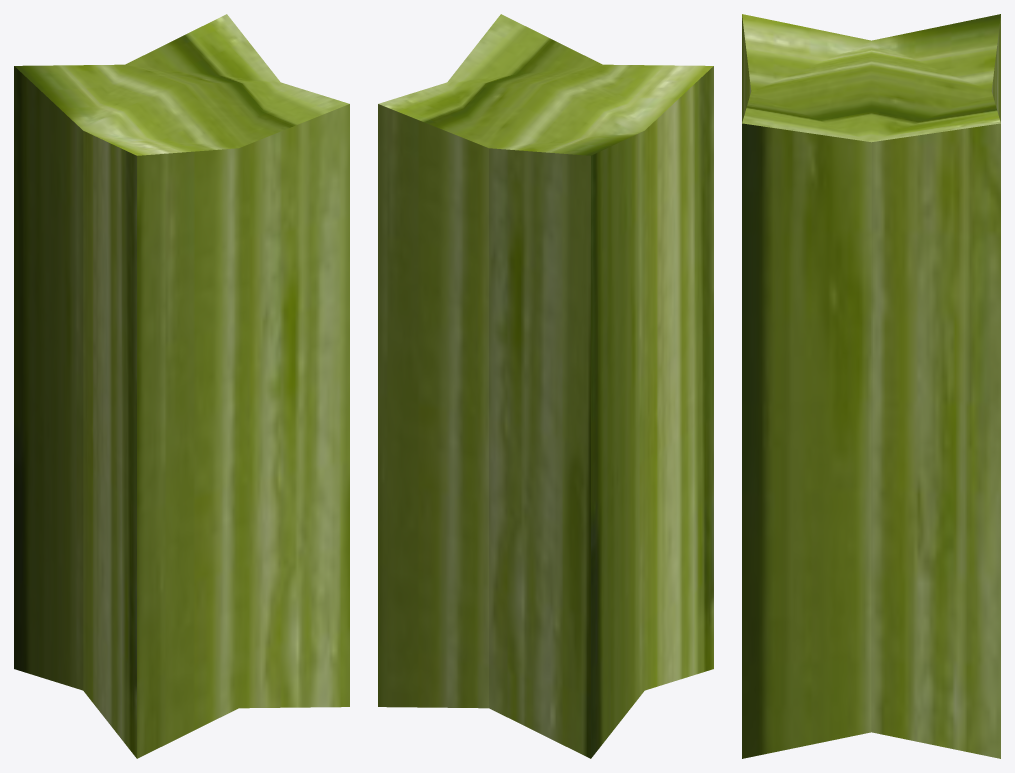
Rendered from gambo.FBX.
The picture shows the model from 3 angles, left to right: view 1: azimuth 30°, elevation 25°; view 2: azimuth 150°, elevation 25°; view 3: azimuth 270°, elevation 25°; orthographic projection. The views are drawn at different scales.
Visible parts, largest first — view 1: gambo; view 2: gambo; view 3: gambo.
Part boxes in pixels (bbox=[...]): gambo: bbox=[14, 14, 349, 758]; gambo: bbox=[378, 14, 713, 758]; gambo: bbox=[742, 14, 1000, 758].
Size of what is drawn, in the model's own units: 200 by 200 by 542.
